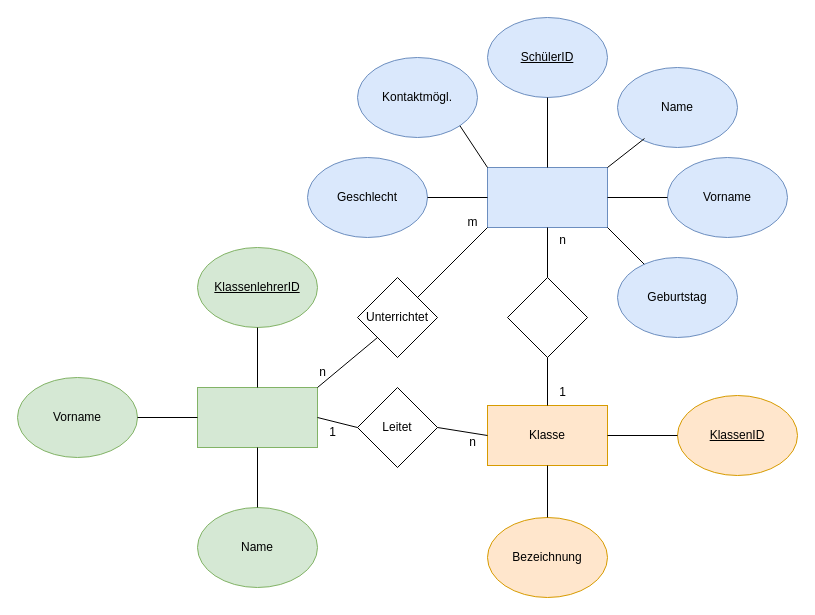
Image size: 815x615. Some labels were removed from this diagram. The centre of each missing label's shape, as x and y in pixels:
"Klassenlehrer" goes at point 257,417.
"Schueler" goes at point 547,197.
"Teil von" goes at point 547,317.
